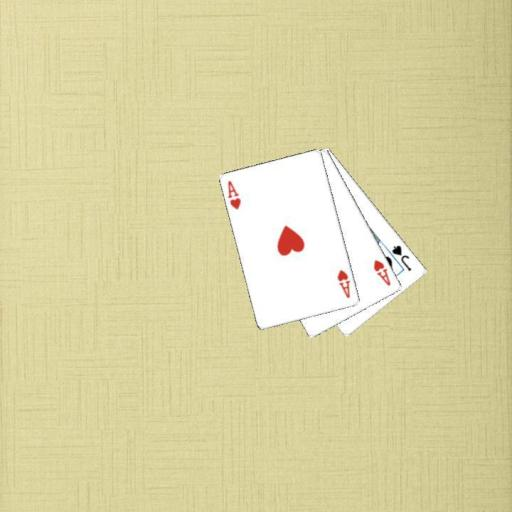AH: (371, 257, 393, 287), (225, 178, 243, 211), (334, 267, 352, 299)
JS: (389, 242, 413, 272)
